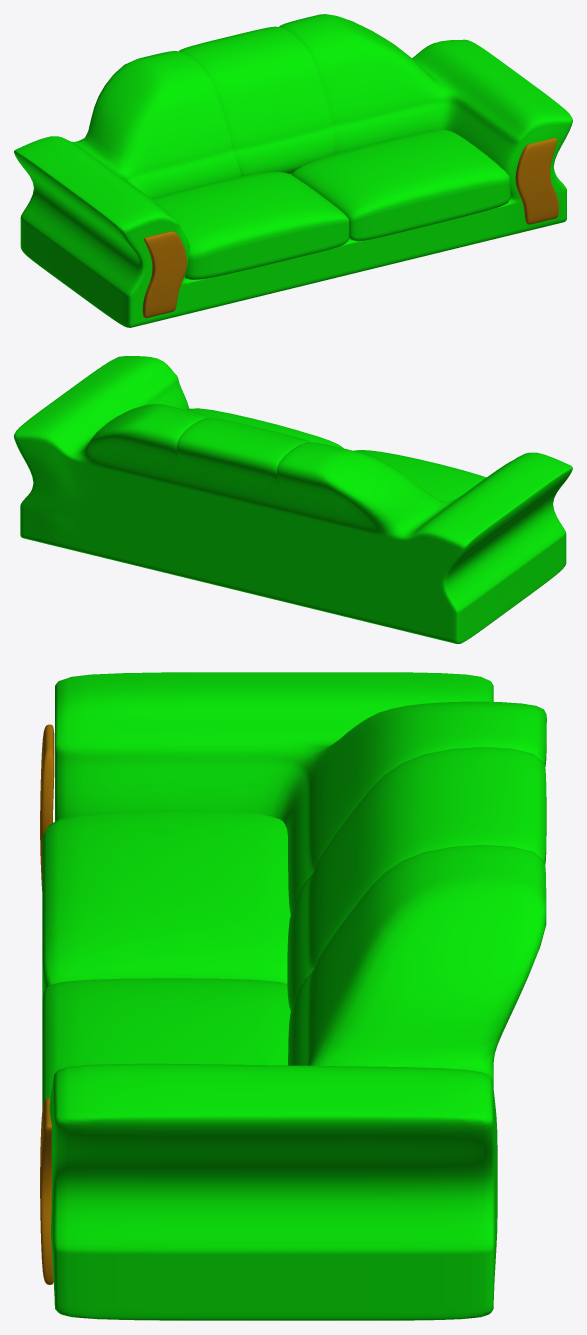
The model's file is Sofa.fbx.
3 views of the same model, one above another, from view 1: azimuth 30°, elevation 25°; view 2: azimuth 150°, elevation 25°; view 3: azimuth 270°, elevation 25° (orthographic). The views are drawn at different scales.
Visible parts, largest first — view 1: pCube7; view 2: pCube7; view 3: pCube7.
Boxes of the visible parts, <box> form: pCube7: <box>14,14,572,327</box>; pCube7: <box>14,356,572,643</box>; pCube7: <box>40,672,546,1320</box>.
Bounding box in the file's own units: 449 × 149 × 216.
